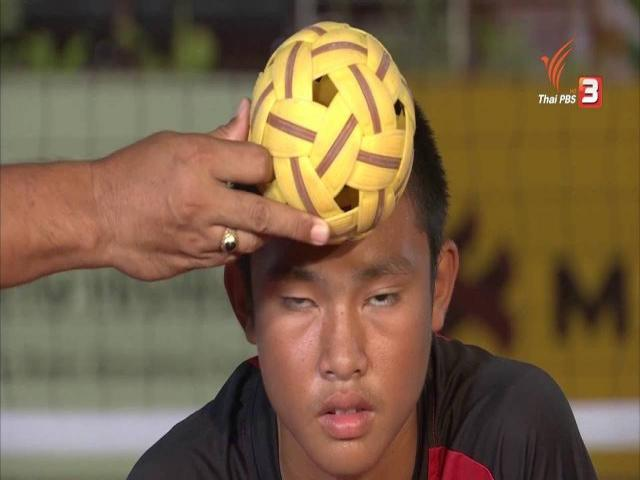round ball: (249, 22, 416, 243)
